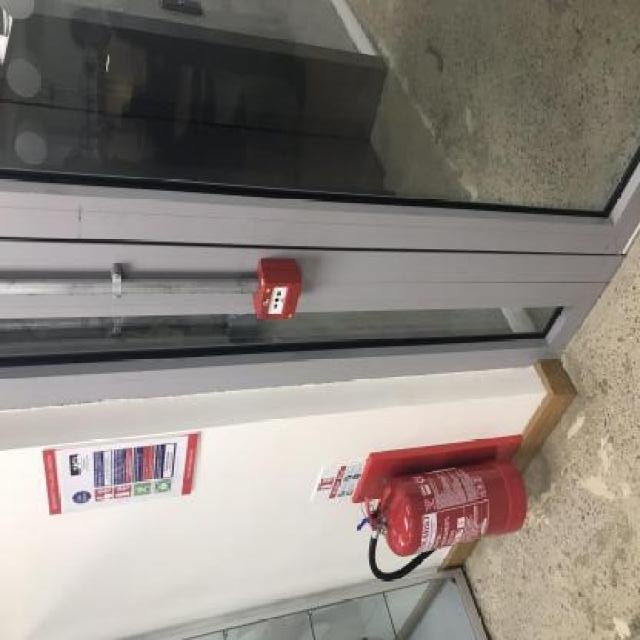fire extinguisher: (364, 456, 530, 579)
